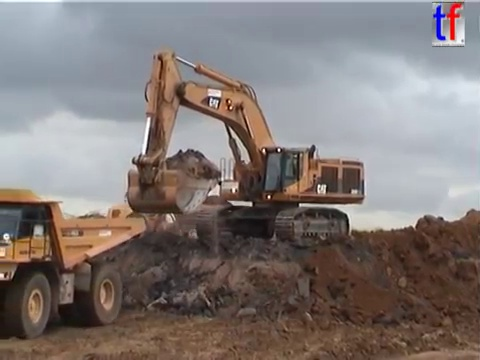excavator: (123, 47, 368, 250)
truck: (1, 186, 150, 342), (103, 187, 237, 242)
